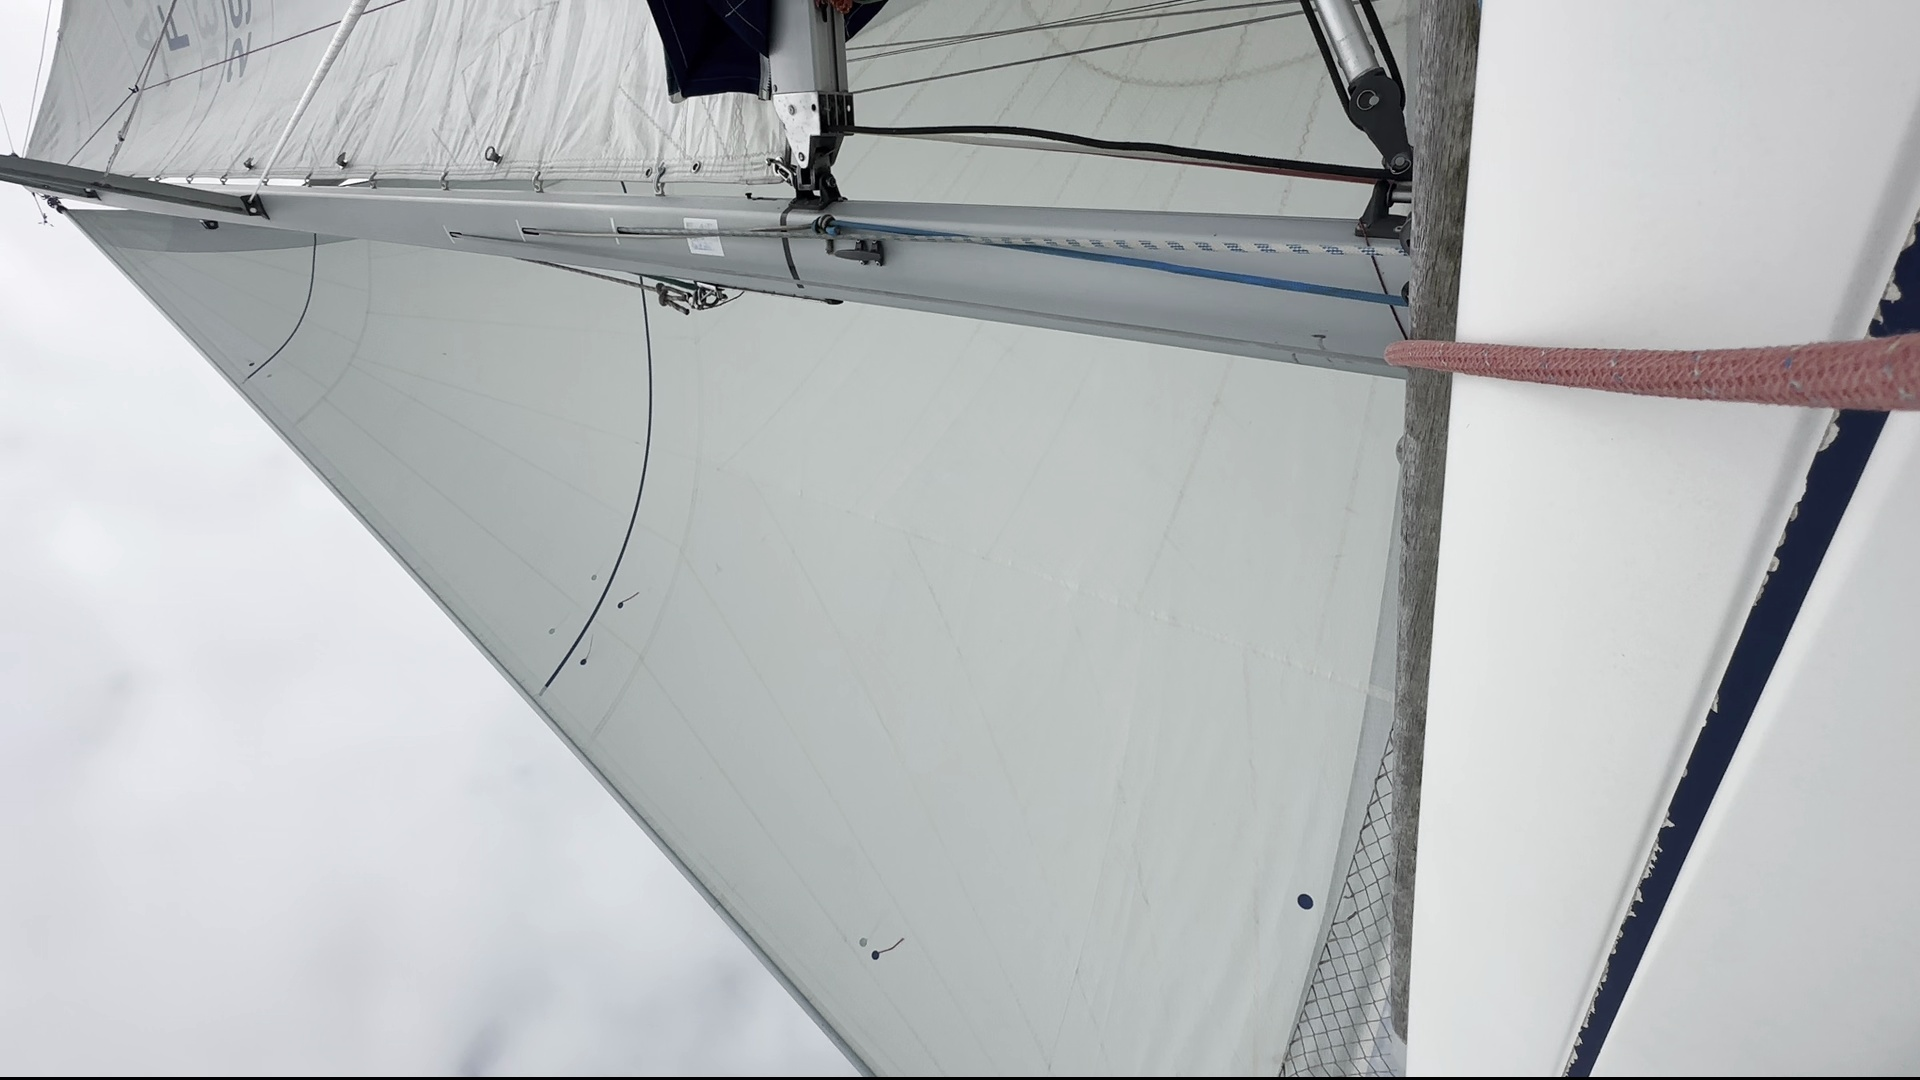pennon_attached: (868, 931, 909, 965), (587, 549, 616, 595), (575, 634, 601, 669), (615, 585, 644, 611), (546, 612, 570, 641)
pennon_detached: (852, 907, 895, 953), (244, 349, 256, 371)
